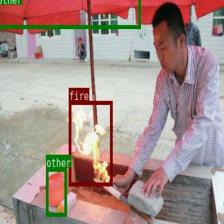fire: (68, 101, 112, 185)
